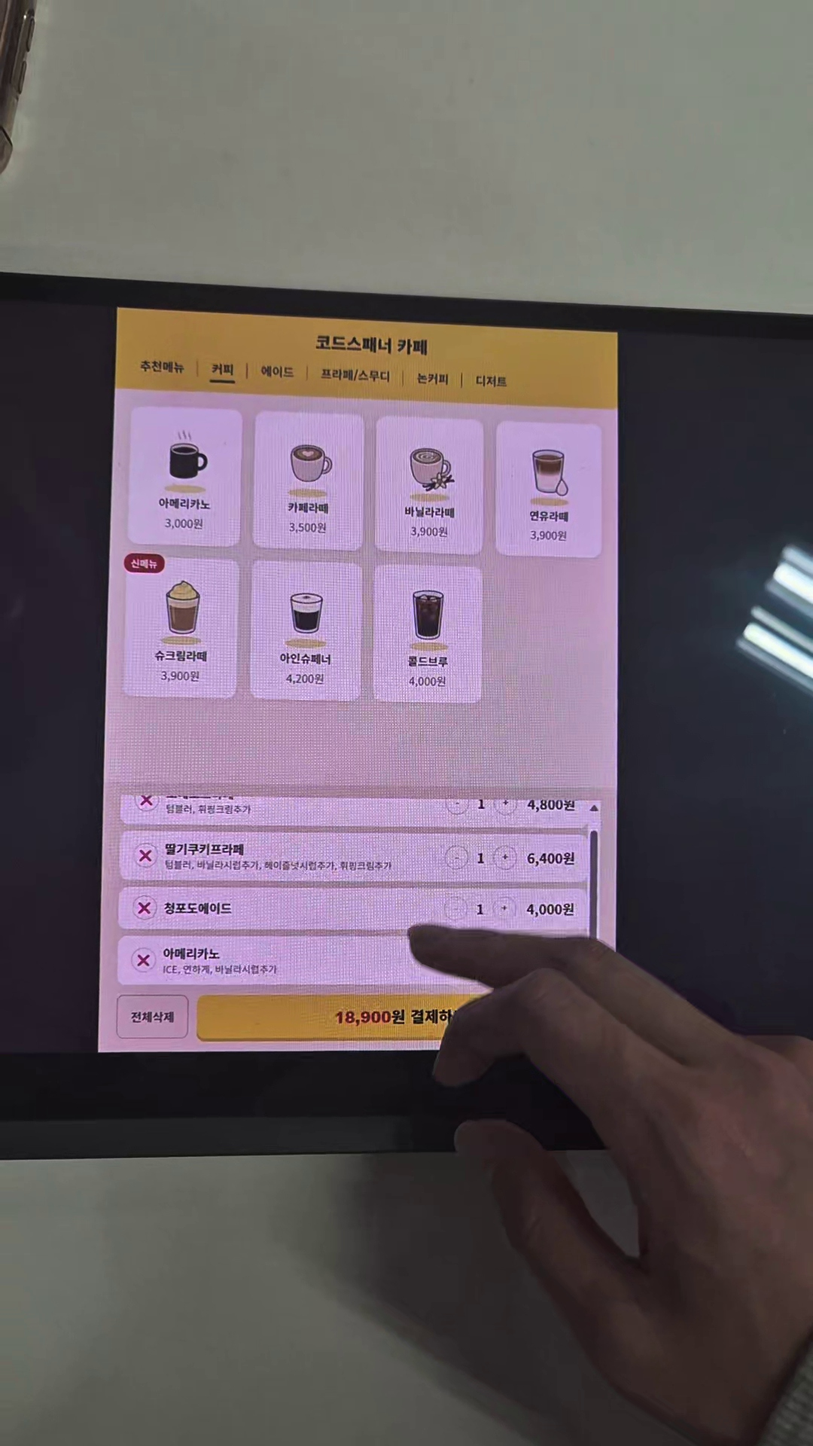action_button: (197, 992, 593, 1041), (117, 996, 188, 1038)
cart_item: (119, 831, 589, 882), (118, 936, 589, 985), (118, 887, 588, 930), (120, 795, 589, 828)
category_tab: (319, 365, 392, 385), (137, 357, 187, 377), (259, 362, 296, 380), (416, 371, 450, 388), (474, 372, 508, 389), (208, 360, 236, 378)
menu_back: (123, 554, 239, 699), (128, 407, 243, 547), (253, 410, 365, 551), (250, 560, 362, 701), (375, 416, 484, 555), (373, 565, 482, 703), (495, 421, 602, 558)
menu_name: (153, 648, 209, 666), (278, 650, 333, 668), (157, 495, 213, 512), (403, 504, 456, 521), (405, 653, 450, 669), (527, 508, 570, 524), (286, 501, 331, 515)
menu_price: (408, 522, 450, 541), (283, 670, 327, 687), (286, 519, 328, 536), (162, 515, 206, 531), (158, 668, 202, 684), (406, 674, 448, 689), (527, 528, 568, 543)
